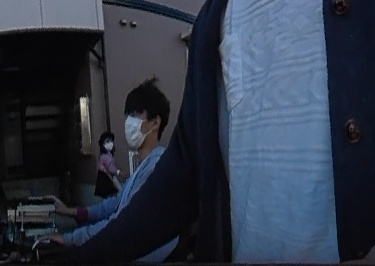person: (40, 79, 176, 266), (94, 127, 117, 197)
